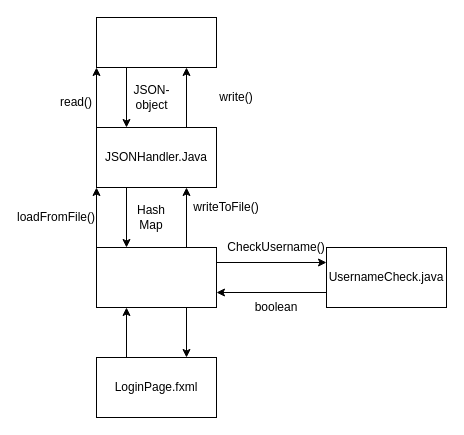
Image size: 464x435. Some labels were removed from this diagram. The box of each missing label's shape, as (x1, y1, x2, y2) in pixels:
JSONHandler.json: (96, 16, 216, 68)
LoginController.java: (96, 246, 216, 308)
